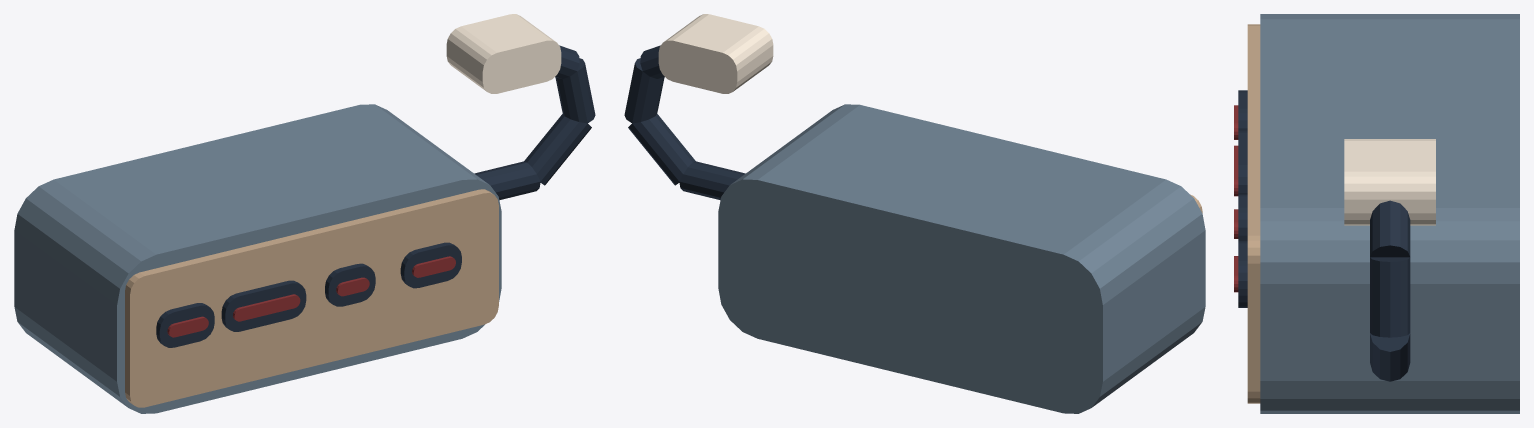
Rendered from adapterhub.glb.
The picture shows the model from 3 angles, left to right: view 1: azimuth 30°, elevation 25°; view 2: azimuth 150°, elevation 25°; view 3: azimuth 270°, elevation 25°; orthographic projection. The views are drawn at different scales.
Visible parts, largest first — view 1: shell, face, plug, port 1, cable1, port 3, cable2, cable0, port 0, port 2, port tongue 1, port tongue 3 (+2 smaller); view 2: shell, plug, cable1, cable2, cable0, cable3; view 3: shell, plug, face, cable2, cable3, cable1, port 3, port 1, port 2, port 0.
Part boxes in pixels (bbox=[...]): shell: bbox=[14, 104, 501, 413]; face: bbox=[125, 189, 498, 407]; plug: bbox=[446, 14, 561, 93]; port 1: bbox=[221, 280, 306, 331]; cable1: bbox=[524, 114, 591, 185]; port 3: bbox=[400, 242, 461, 288]; cable2: bbox=[555, 58, 595, 123]; cable0: bbox=[474, 161, 540, 200]; port 0: bbox=[156, 303, 214, 347]; port 2: bbox=[325, 263, 375, 306]; port tongue 1: bbox=[233, 294, 300, 321]; port tongue 3: bbox=[412, 256, 455, 277]; shell: bbox=[718, 104, 1205, 413]; plug: bbox=[658, 14, 773, 93]; cable1: bbox=[628, 114, 695, 185]; cable2: bbox=[624, 58, 664, 123]; cable0: bbox=[679, 161, 745, 200]; cable3: bbox=[640, 45, 664, 78]; shell: bbox=[1260, 14, 1519, 413]; plug: bbox=[1344, 139, 1435, 225]; face: bbox=[1247, 24, 1260, 403]; cable2: bbox=[1370, 257, 1410, 337]; cable3: bbox=[1370, 200, 1410, 257]; cable1: bbox=[1370, 333, 1410, 381]; port 3: bbox=[1238, 241, 1247, 307]; port 1: bbox=[1238, 130, 1247, 194]; port 2: bbox=[1238, 194, 1247, 241]; port 0: bbox=[1238, 90, 1247, 130].
Size of the model in its own units: 2.02 by 0.895 by 0.749.
